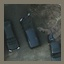car: (20, 17, 40, 49), (4, 20, 20, 54)
